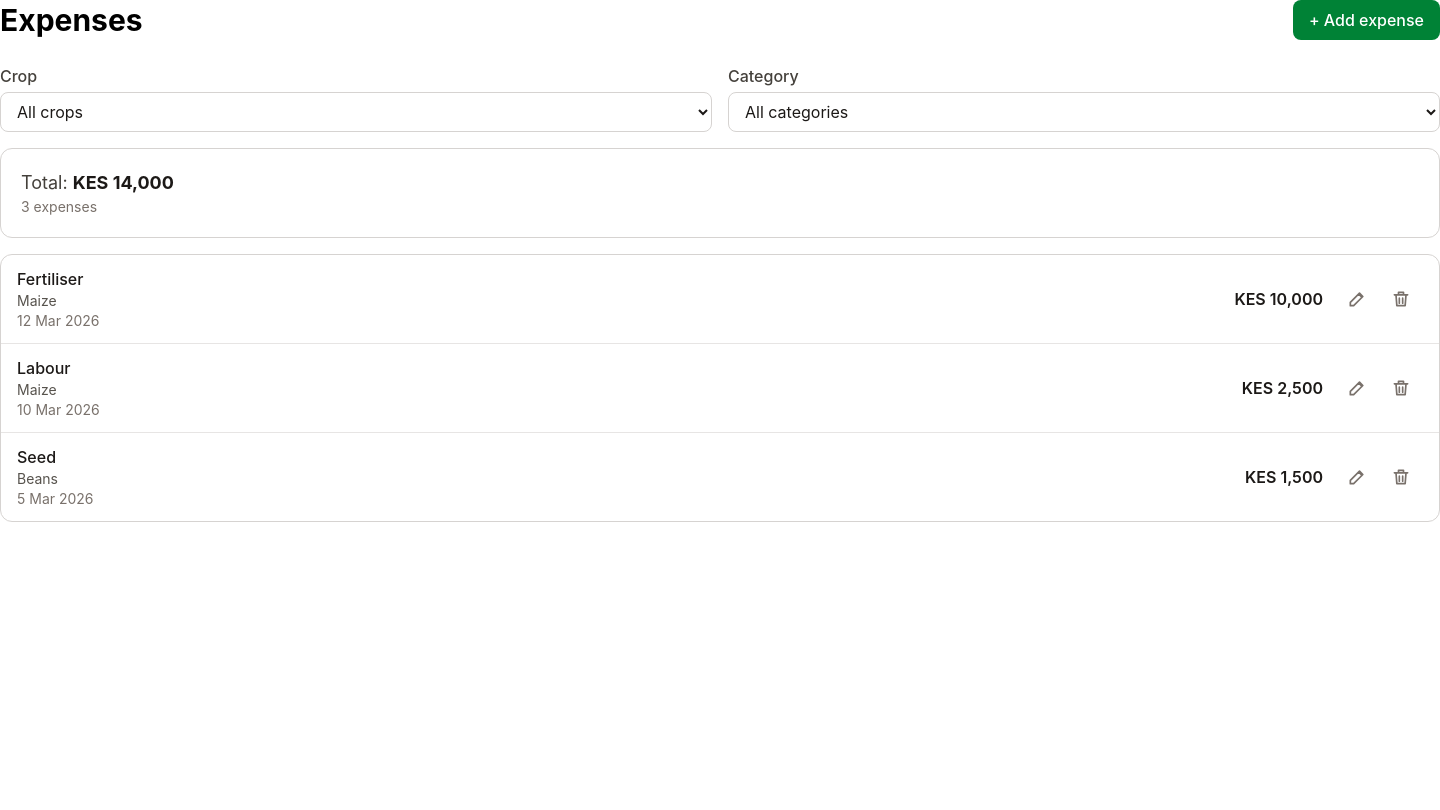
Test: Expenses page › deletes an expense after confirming
Click the button named "Delete Labour expense from 10 Mar 2026": (1401, 388) [1379, 366, 1423, 410]
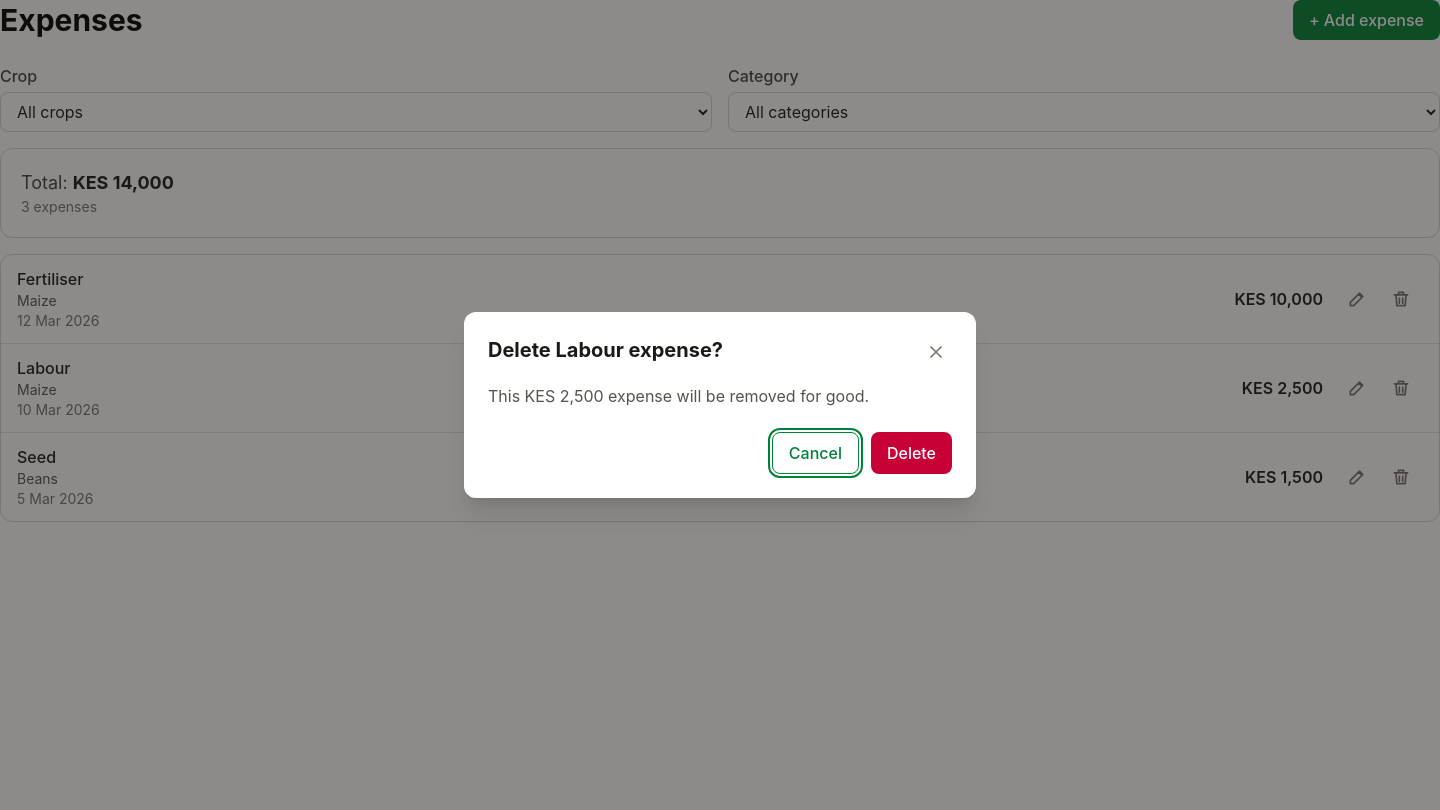
Click the button "Delete": (911, 453) [871, 432, 952, 474]
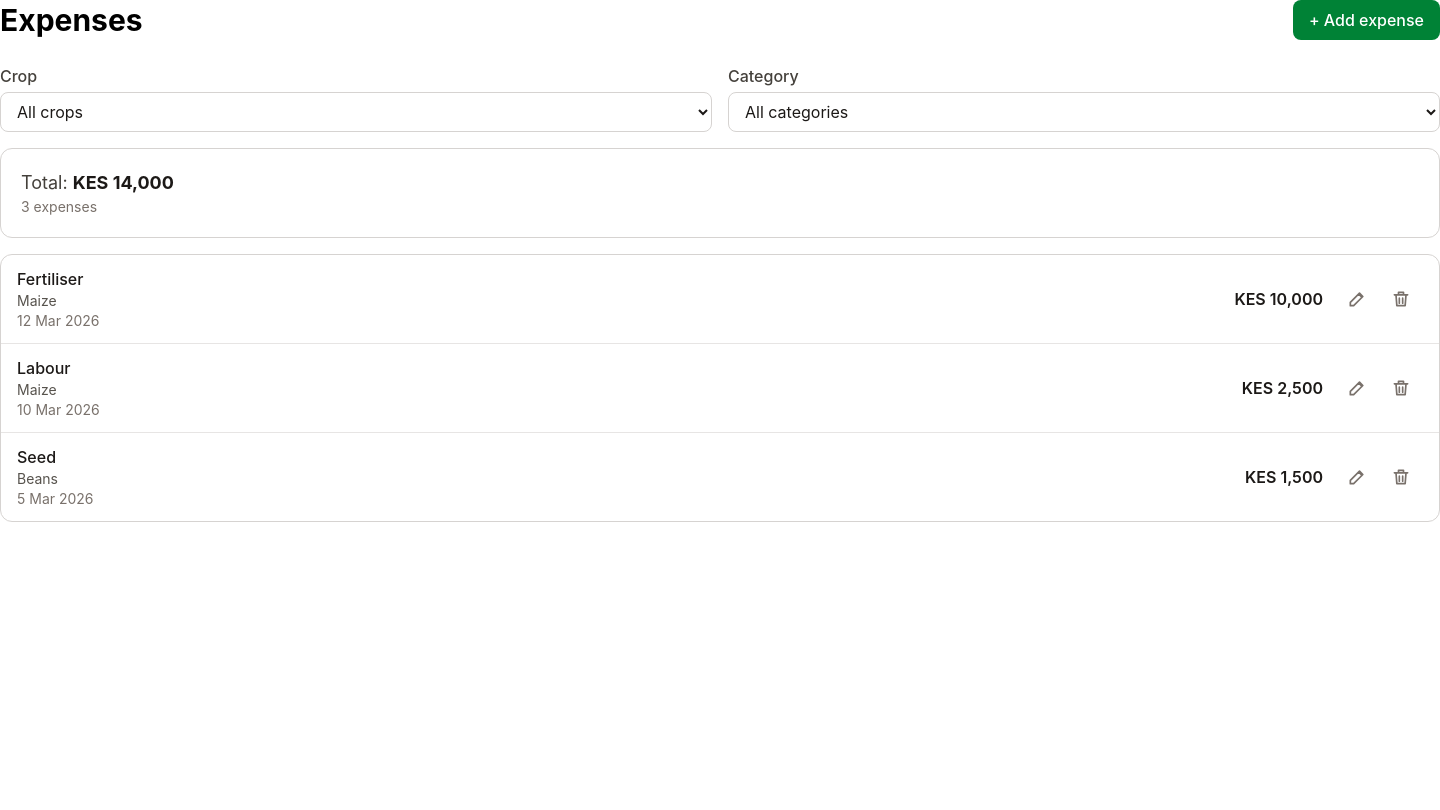
Now the dialog is gone
